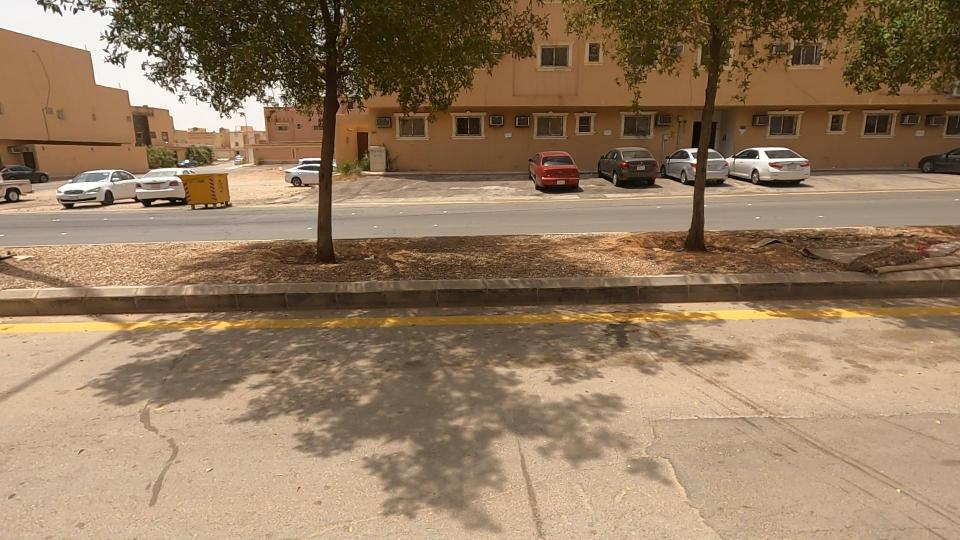CLUTTER_SIDEWALK: (273, 176, 713, 340), (0, 200, 312, 323), (713, 194, 960, 313)
